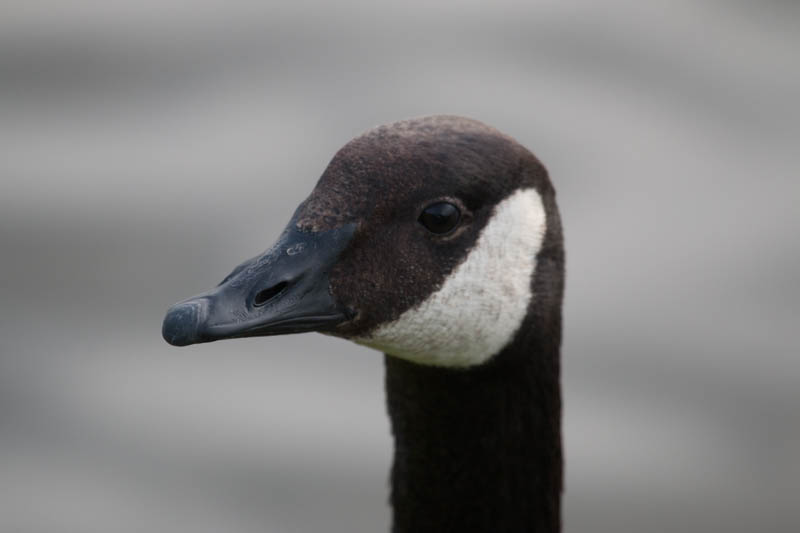goose-head: (160, 117, 567, 369)
